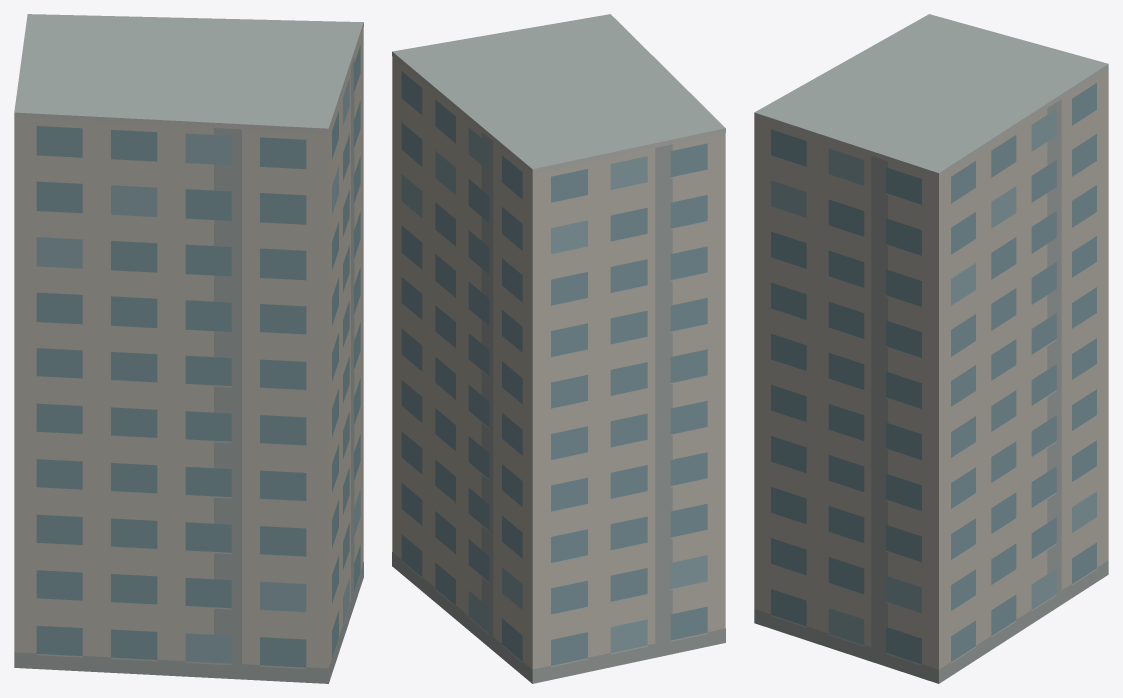
The model's file is residential-c4771a55-a6cf-433c-983a-d69b327d0fac.glb.
3 views of the same model, side by side, from view 1: azimuth 30°, elevation 25°; view 2: azimuth 150°, elevation 25°; view 3: azimuth 270°, elevation 25° (orthographic). The views are drawn at different scales.
Parts seen in each view (by area): view 1: residential-c4771a55-a6cf-433c-983a-d69b327d0fac.tmp; view 2: residential-c4771a55-a6cf-433c-983a-d69b327d0fac.tmp; view 3: residential-c4771a55-a6cf-433c-983a-d69b327d0fac.tmp.
Boxes of the visible parts, bbox=[...] form: residential-c4771a55-a6cf-433c-983a-d69b327d0fac.tmp: bbox=[14, 14, 363, 683]; residential-c4771a55-a6cf-433c-983a-d69b327d0fac.tmp: bbox=[392, 14, 725, 683]; residential-c4771a55-a6cf-433c-983a-d69b327d0fac.tmp: bbox=[754, 14, 1108, 683].
Bounding box in the file's own units: 17.39 × 26 × 16.36.
